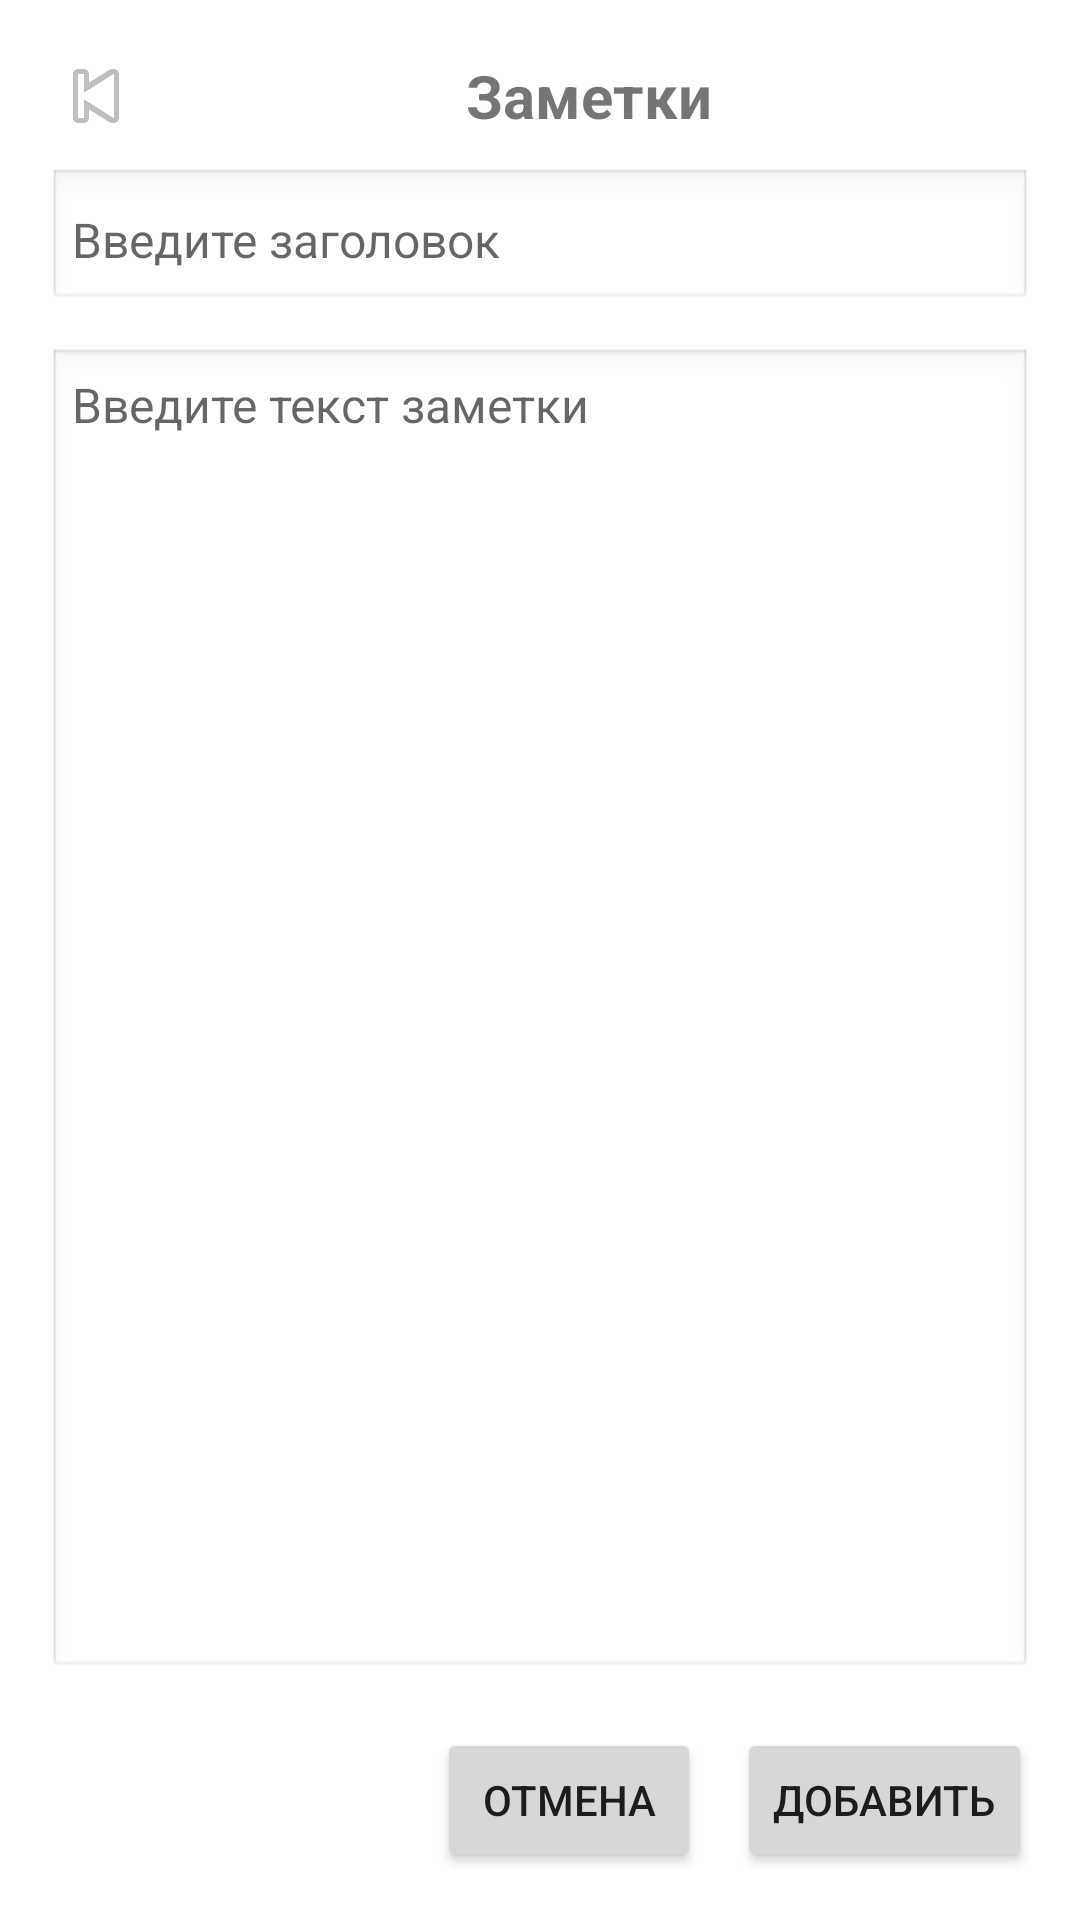

Where icons sit on this 1080px×1920px app screen, as region(x1, y1, x2, y2):
Назад: region(73, 69, 119, 123)
